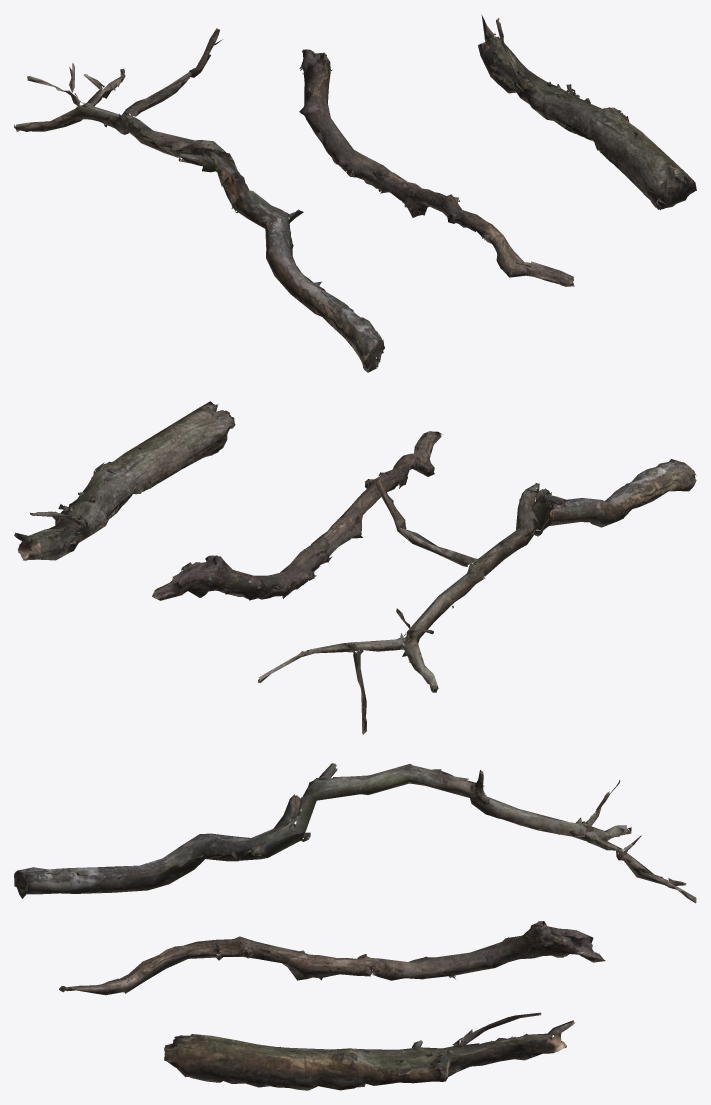
File: branches.glb
3 renders of one model, top to bottom at view 1: azimuth 30°, elevation 25°; view 2: azimuth 150°, elevation 25°; view 3: azimuth 270°, elevation 25°, orthographic. The views are drawn at different scales.
Visible parts, largest first — view 1: dry_branches_medium_01_a, dry_branches_medium_01_c, dry_branches_medium_01_b; view 2: dry_branches_medium_01_a, dry_branches_medium_01_c, dry_branches_medium_01_b; view 3: dry_branches_medium_01_a, dry_branches_medium_01_c, dry_branches_medium_01_b.
Part boxes in pixels (left/top/right/bottom): dry_branches_medium_01_a: left=14, top=28, right=384, bottom=372; dry_branches_medium_01_c: left=478, top=14, right=696, bottom=210; dry_branches_medium_01_b: left=299, top=49, right=574, bottom=286; dry_branches_medium_01_a: left=258, top=459, right=696, bottom=734; dry_branches_medium_01_c: left=14, top=401, right=235, bottom=560; dry_branches_medium_01_b: left=152, top=431, right=442, bottom=600; dry_branches_medium_01_a: left=14, top=763, right=696, bottom=903; dry_branches_medium_01_c: left=164, top=1012, right=574, bottom=1090; dry_branches_medium_01_b: left=59, top=921, right=605, bottom=995.
Bounding box in the file's own units: 1.06 × 0.3399 × 1.3.
1 material, 1 textured.
